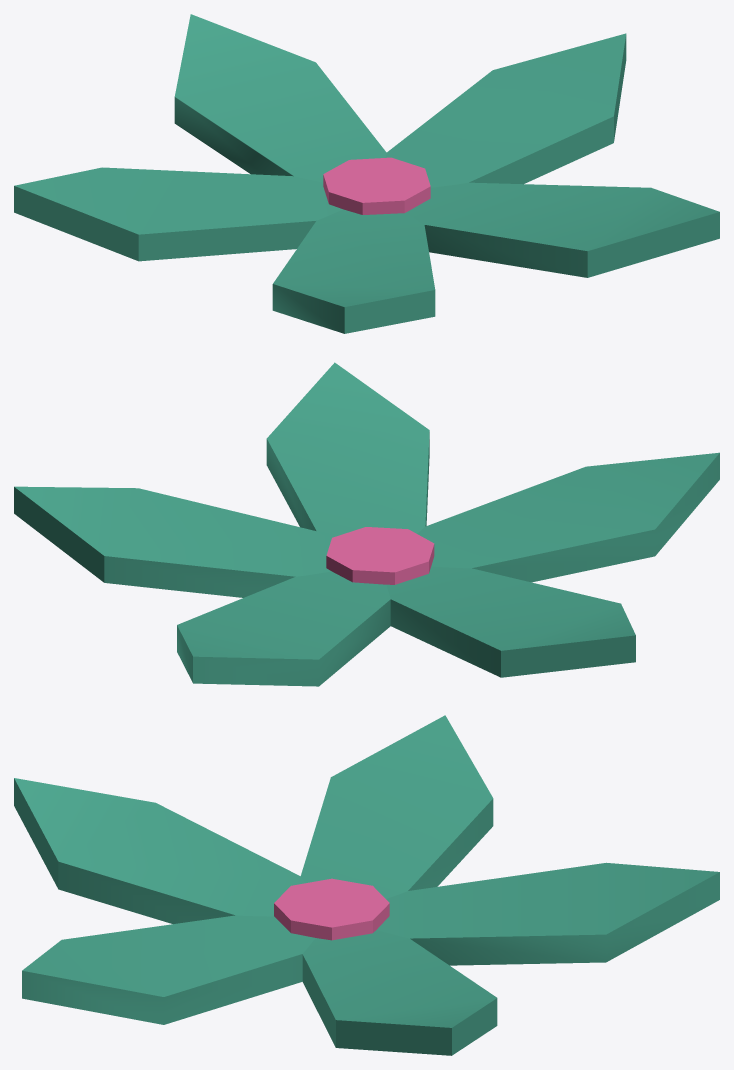
The model's file is Flower_Turquoise_2.fbx.
3 renders of one model, top to bottom at view 1: azimuth 30°, elevation 25°; view 2: azimuth 150°, elevation 25°; view 3: azimuth 270°, elevation 25°, orthographic. The views are drawn at different scales.
Parts seen in each view (by area): view 1: Cube.140, Cylinder.646; view 2: Cube.140, Cylinder.646; view 3: Cube.140, Cylinder.646.
Part boxes in pixels (left/top/right/bottom): Cube.140: left=14, top=14, right=719, bottom=333; Cylinder.646: left=323, top=157, right=430, bottom=214; Cube.140: left=14, top=362, right=719, bottom=686; Cylinder.646: left=326, top=527, right=434, bottom=584; Cube.140: left=14, top=715, right=719, bottom=1055; Cylinder.646: left=274, top=878, right=389, bottom=940.
Size of the model in its own units: 71.56 by 7.88 by 68.25.
